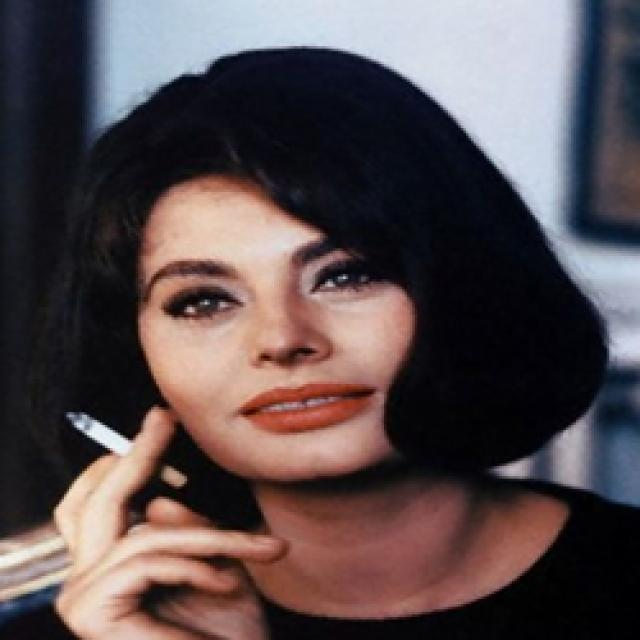Smooking: (50, 407, 201, 490)
